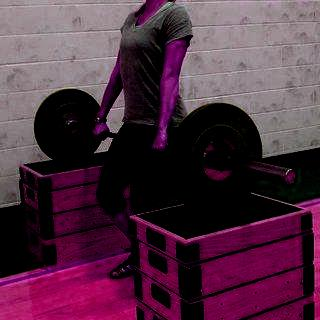Barbell: (282, 167, 296, 187)
